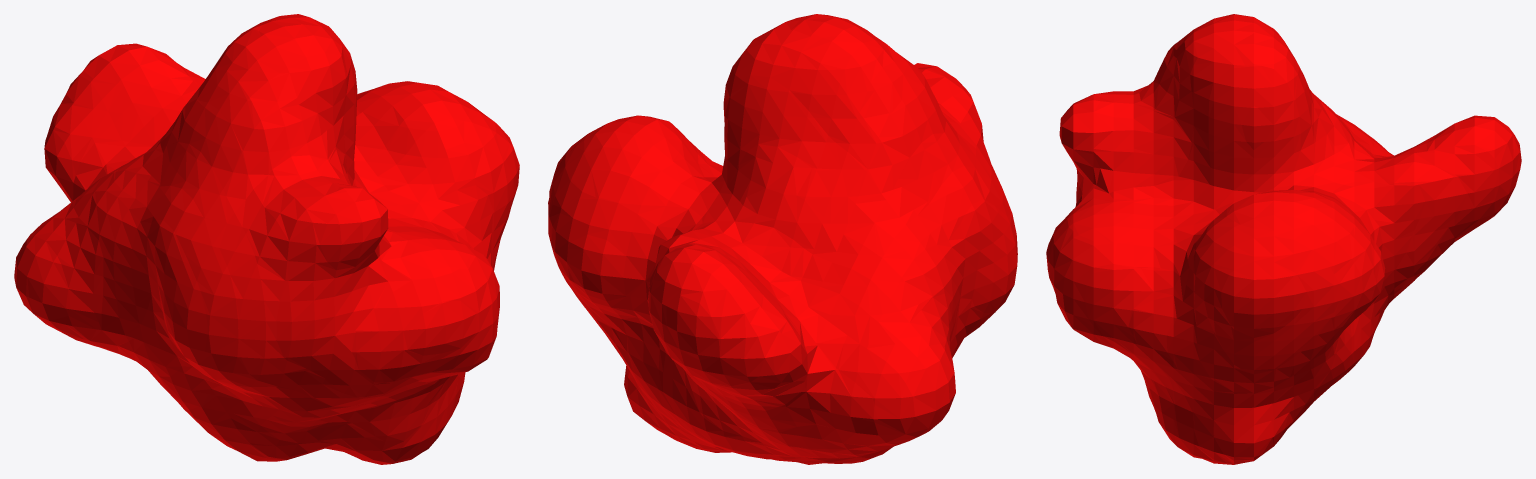
The model's file is ybeY_coarse.dae.
The picture shows the model from 3 angles, left to right: view 1: azimuth 30°, elevation 25°; view 2: azimuth 150°, elevation 25°; view 3: azimuth 270°, elevation 25°; orthographic projection. The views are drawn at different scales.
Parts seen in each view (by area): view 1: ybeY; view 2: ybeY; view 3: ybeY.
Boxes of the visible parts, bbox=[...] form: ybeY: bbox=[14, 14, 519, 464]; ybeY: bbox=[548, 14, 1017, 464]; ybeY: bbox=[1046, 14, 1521, 464].
Size of the model in its own units: 46.3 by 45.5 by 49.93.
